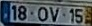1: (10, 4, 17, 21), (68, 8, 74, 24)
5: (74, 8, 83, 24)
8: (16, 4, 27, 21)
O: (37, 5, 48, 22)
V: (48, 6, 61, 23)
